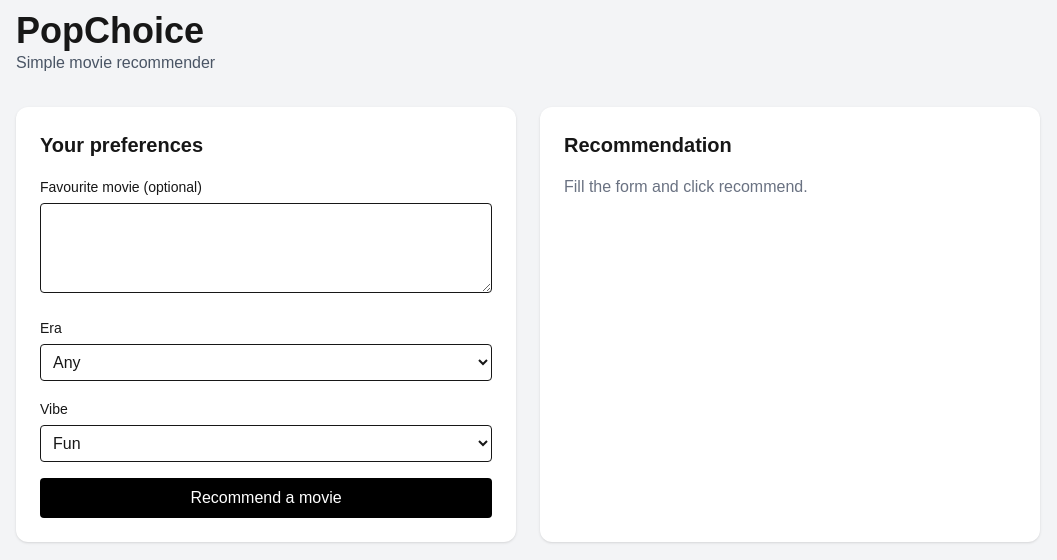
Test: Page › displays error message on API failure
This screenshot has width=1057, height=560.
Step 1. Click the button "Recommend a movie" → click(266, 498), box [40,478,492,518]
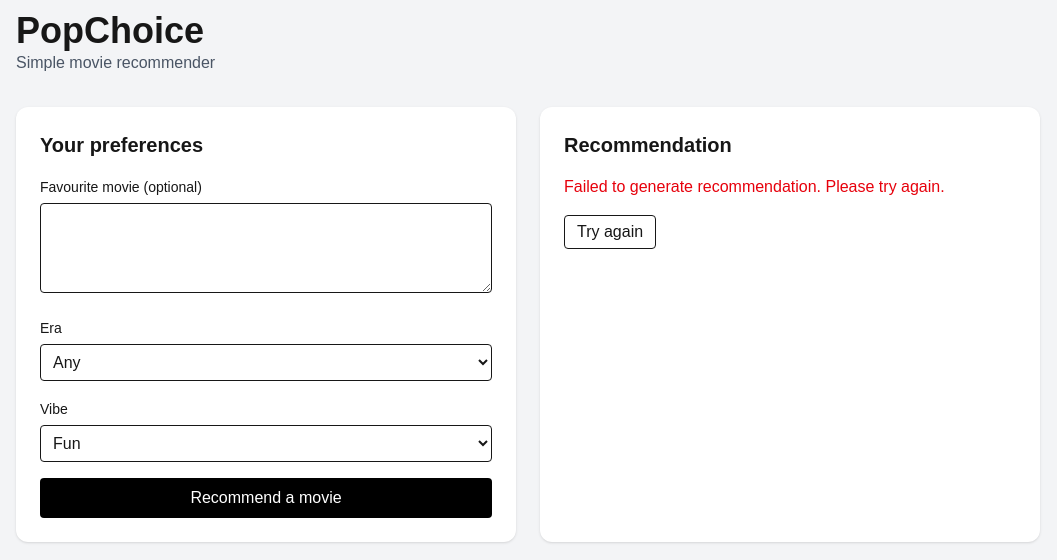
Result: the text "Failed to generate recommendation. Please try again." is shown at [564,178,945,195]
